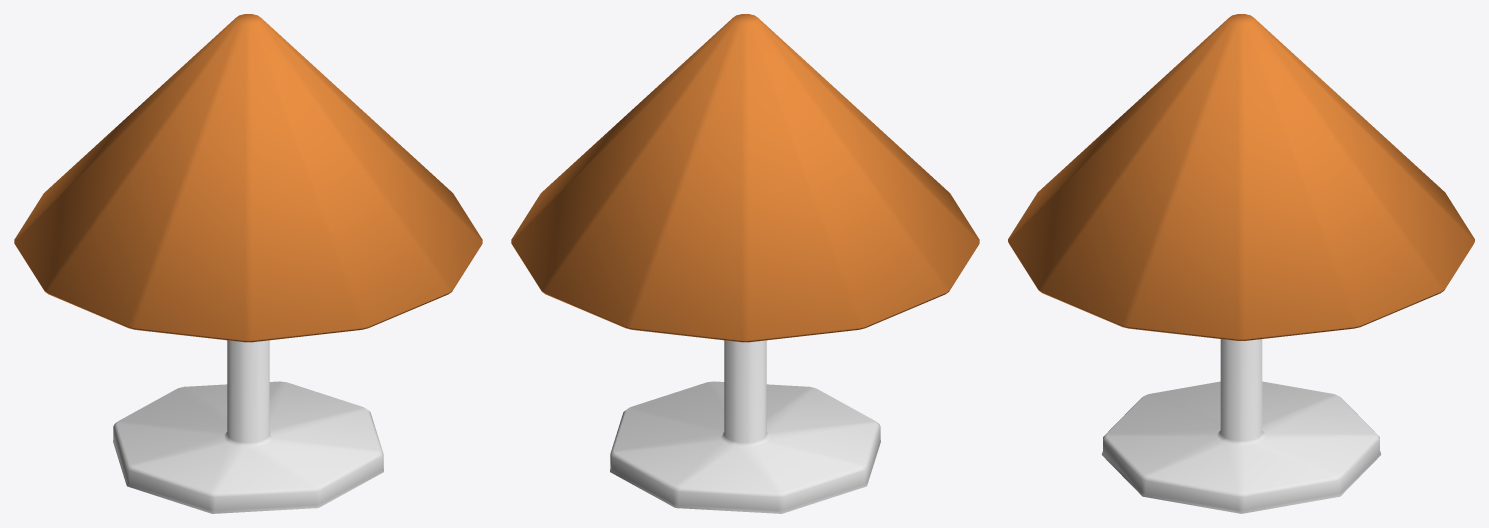
File: lampka.fbx
3 renders of one model, left to right at view 1: azimuth 30°, elevation 25°; view 2: azimuth 150°, elevation 25°; view 3: azimuth 270°, elevation 25°, orthographic.
Parts seen in each view (by area): view 1: Circle; view 2: Circle; view 3: Circle.
Part boxes in pixels (x1,y1,x2,y2): Circle: (14, 14, 482, 513); Circle: (511, 14, 979, 513); Circle: (1008, 14, 1474, 513).
Bounding box in the file's own units: 50.06 × 51.53 × 50.06.
